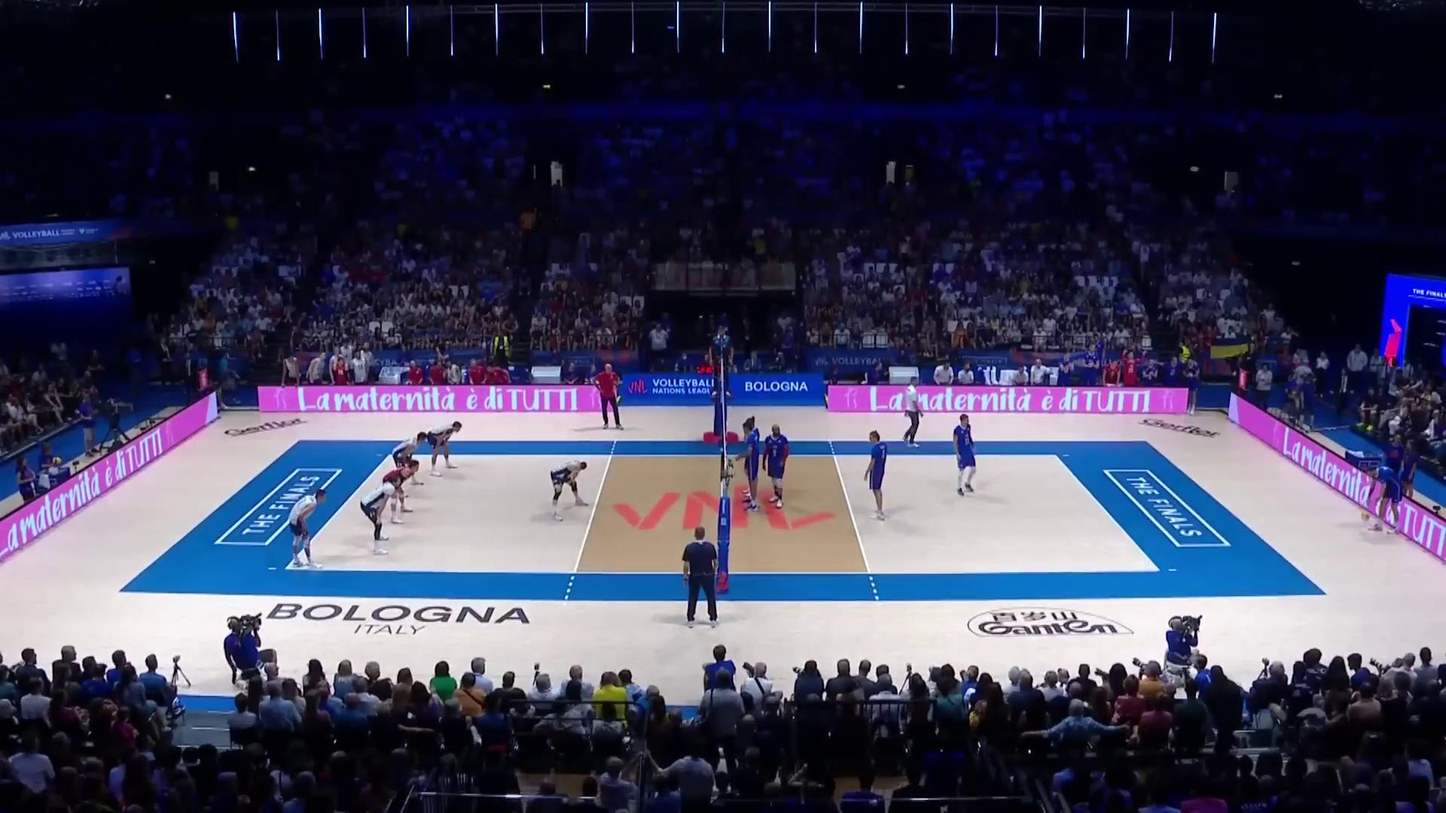player: (360, 473, 402, 557), (286, 486, 327, 572), (1365, 459, 1405, 537), (546, 458, 591, 522), (862, 431, 888, 522), (384, 461, 419, 525), (765, 425, 791, 510), (388, 433, 424, 493), (426, 422, 460, 479), (954, 413, 977, 495), (740, 421, 760, 509), (745, 415, 761, 499)
refree: (683, 528, 723, 626), (711, 324, 733, 397)
